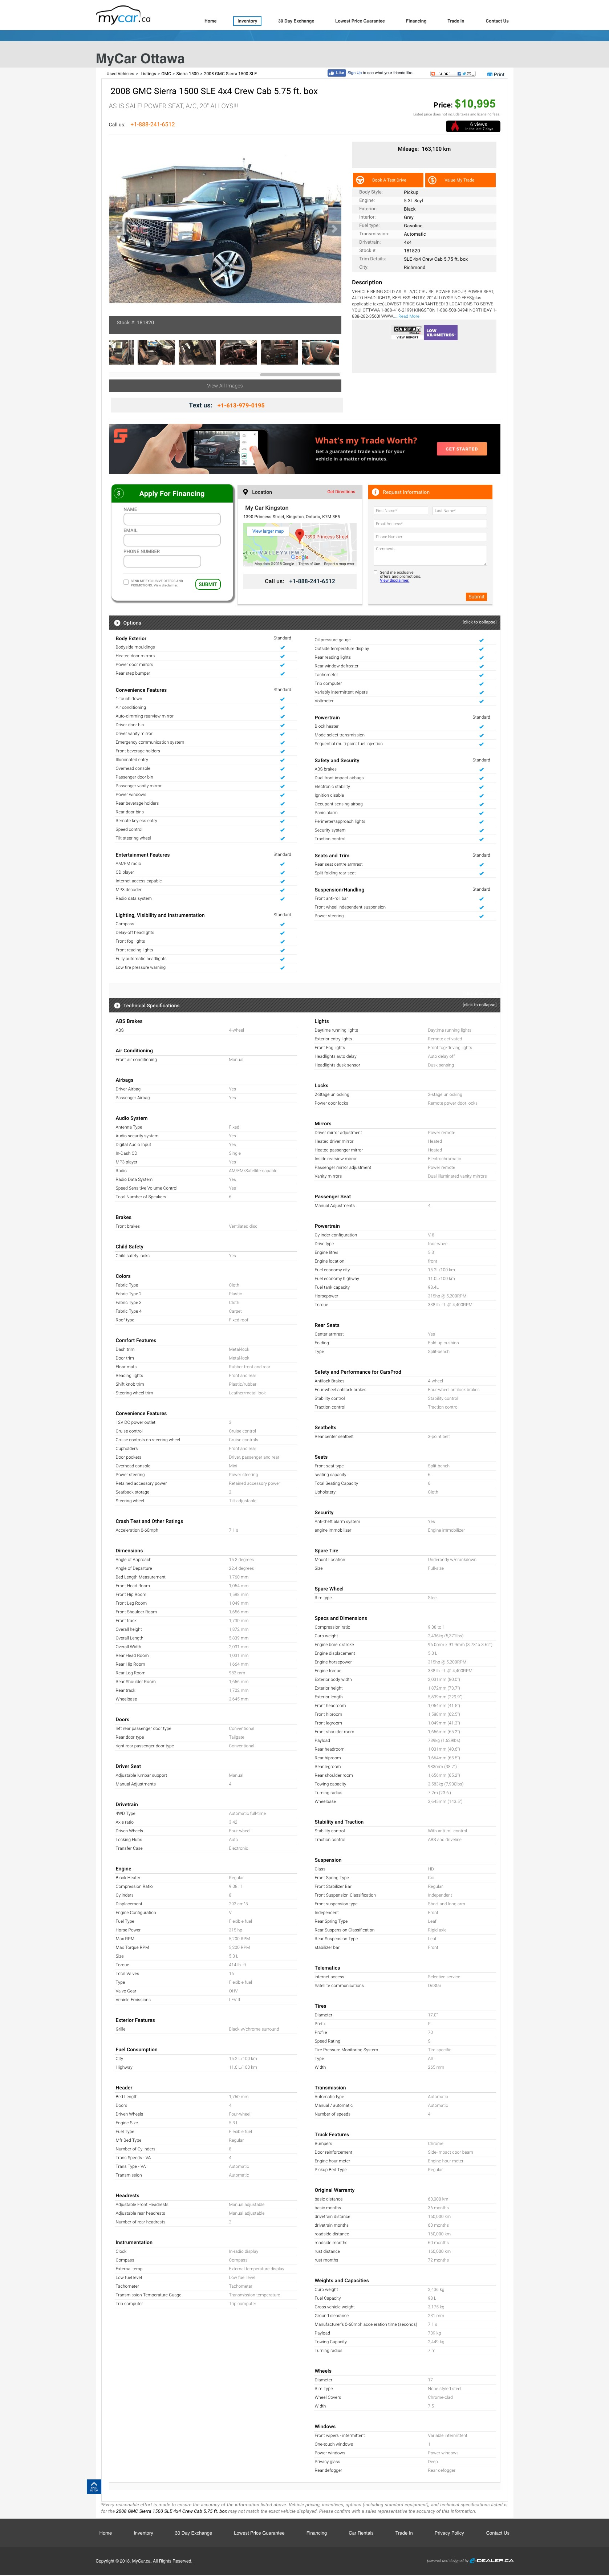car: (327, 220, 341, 237)
